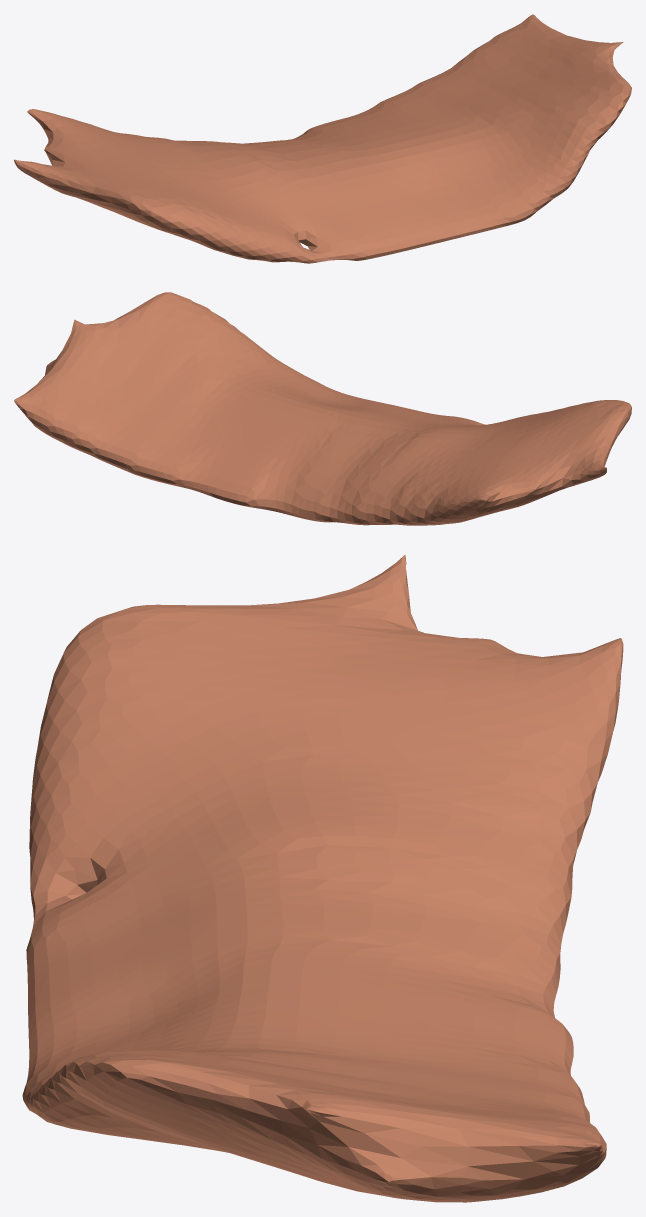
The model's file is afs.glb.
3 renders of one model, top to bottom at view 1: azimuth 30°, elevation 25°; view 2: azimuth 150°, elevation 25°; view 3: azimuth 270°, elevation 25°, orthographic. The views are drawn at different scales.
Parts seen in each view (by area): view 1: geometry_0; view 2: geometry_0; view 3: geometry_0.
Part boxes in pixels (left/top/right/bottom): geometry_0: left=14, top=14, right=631, bottom=263; geometry_0: left=14, top=292, right=631, bottom=525; geometry_0: left=22, top=555, right=623, bottom=1202.
Bounding box in the file's own units: 0.584 × 0.0944 × 0.2695.
